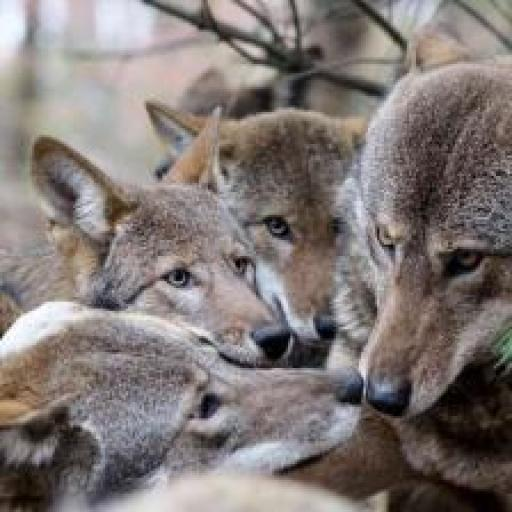wolf: (0, 263, 382, 512), (0, 92, 297, 380), (329, 7, 512, 466), (137, 82, 377, 343)
